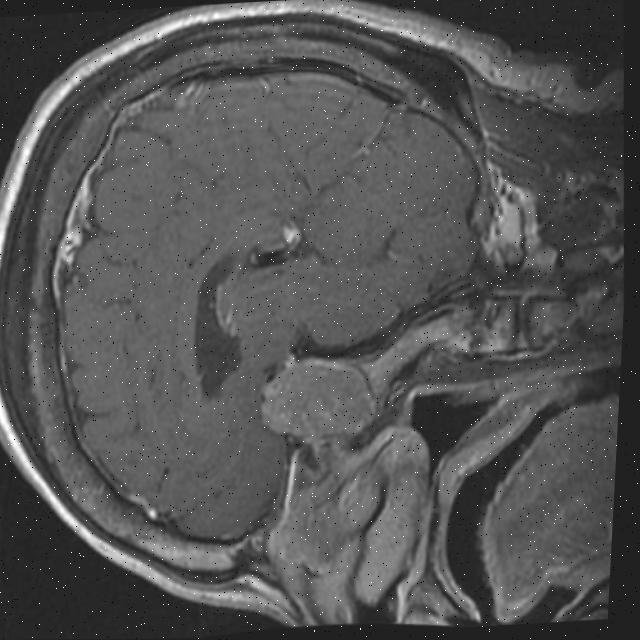Pituitary: (255, 352, 380, 444)
